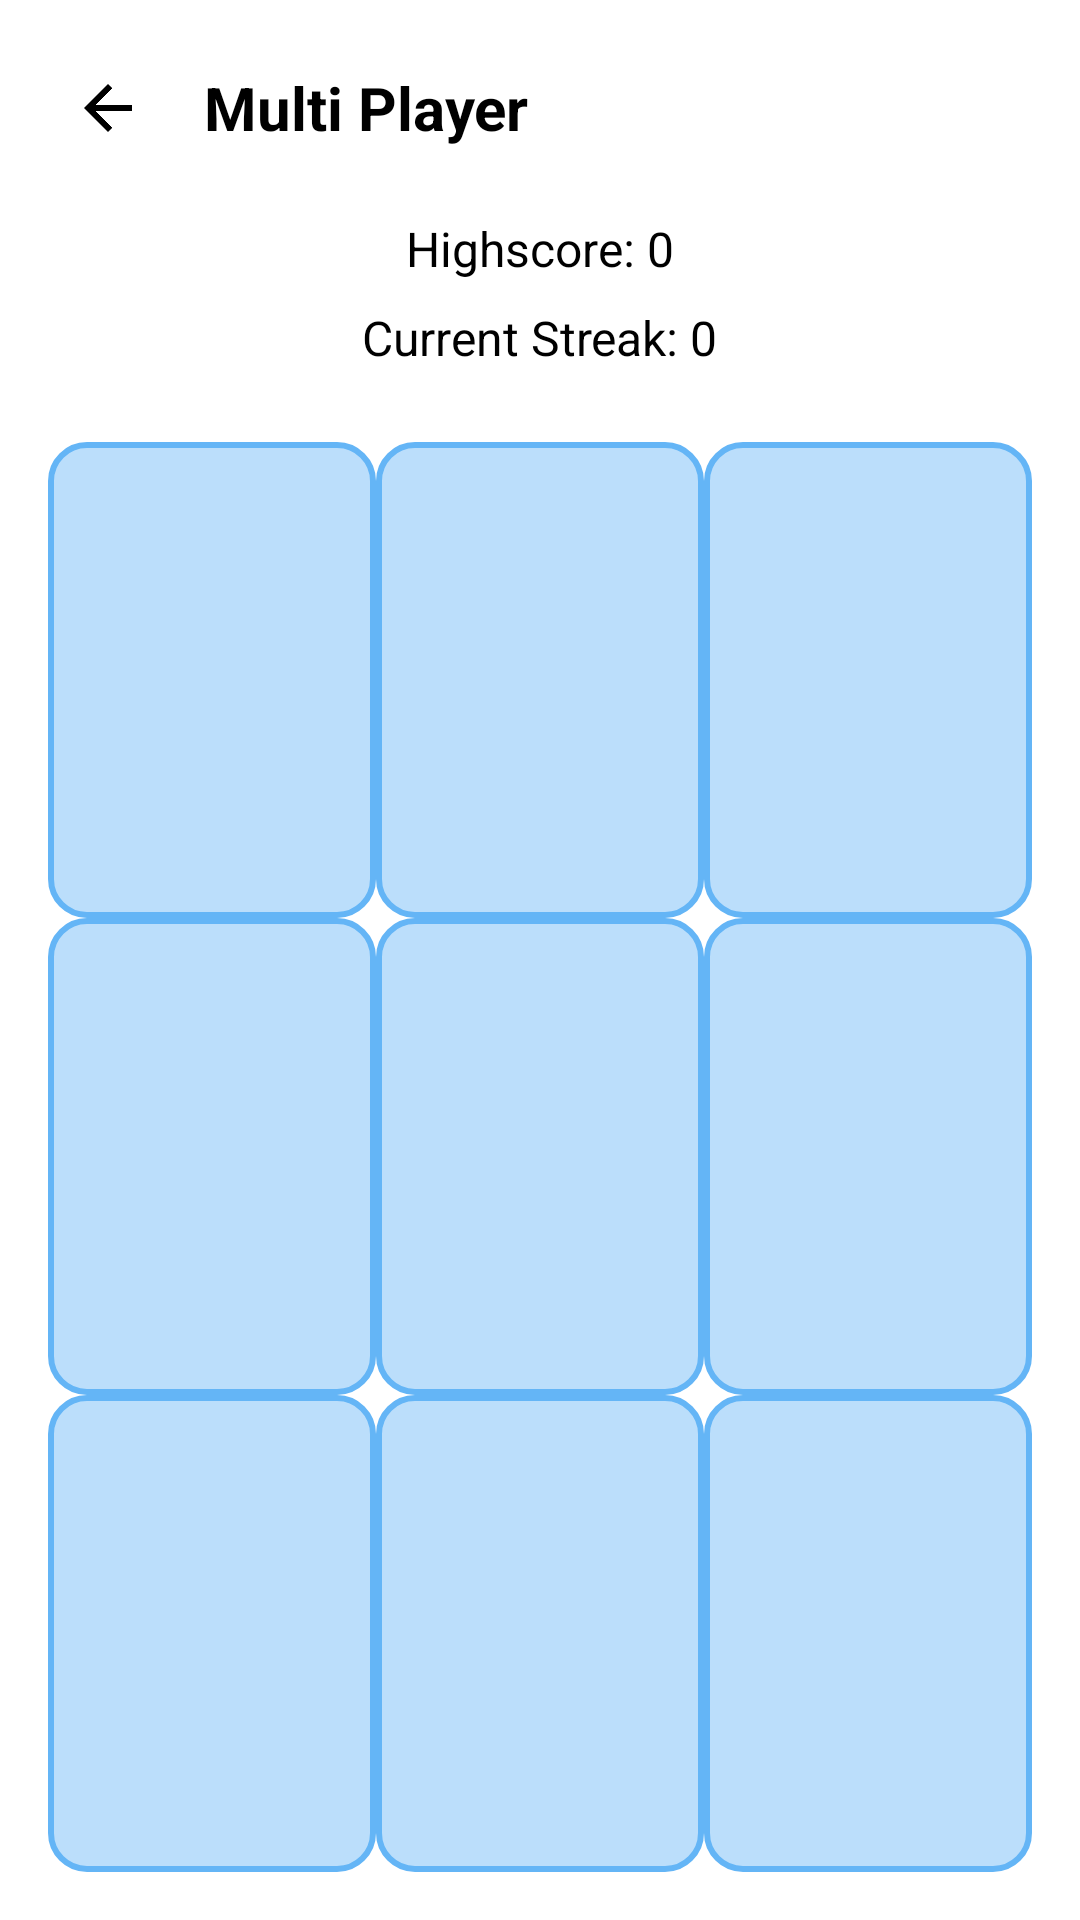

Locate icon controls on the screen. Image size 1080w x 1920h, boxes as box(x1, y1, x2, y2).
Back: box(84, 84, 132, 132)
